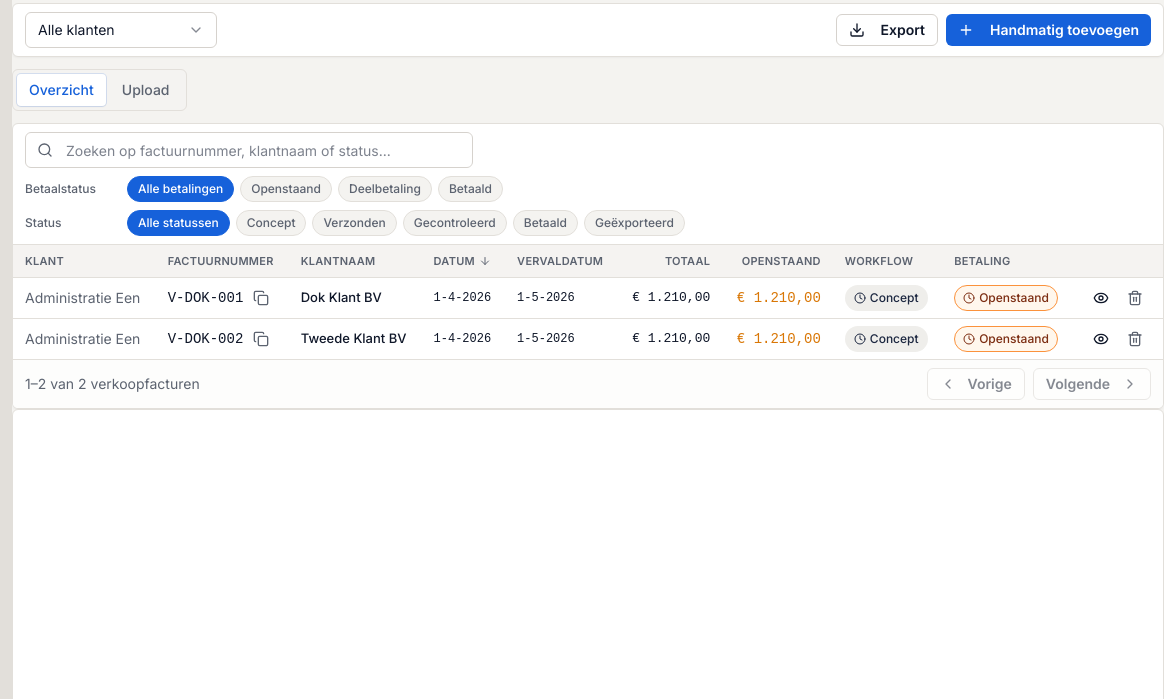
Verkoop — desktop detaildok (>= 1360px) › toont de geselecteerde factuur in het vaste dok en opent de dialoog niet
Click the 2nd row at (588, 298), box [13,277,1163,318]
(page scrolled)
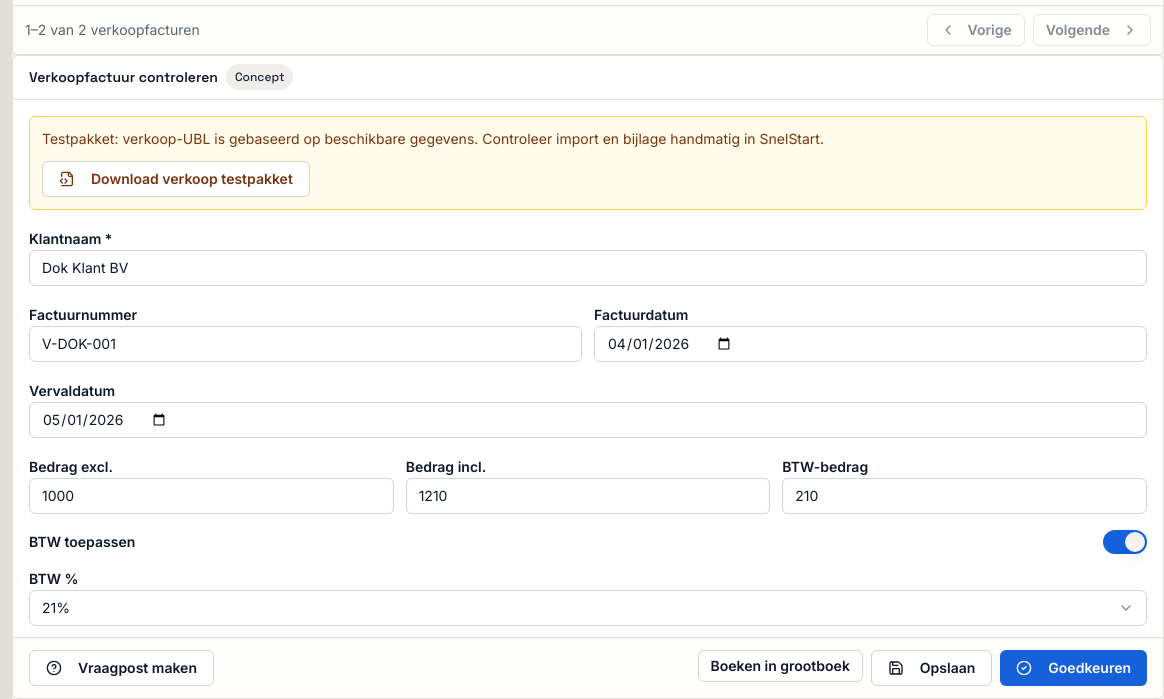
Expected: the field showing "Dok Klant BV" below "Klantnaam *" is shown, [29,250,1147,286]
Expected: the field showing "V-DOK-001" below "Factuurdatum" is shown, [29,326,582,362]
Expected: the button "Opslaan" is enabled, [871,650,992,686]
